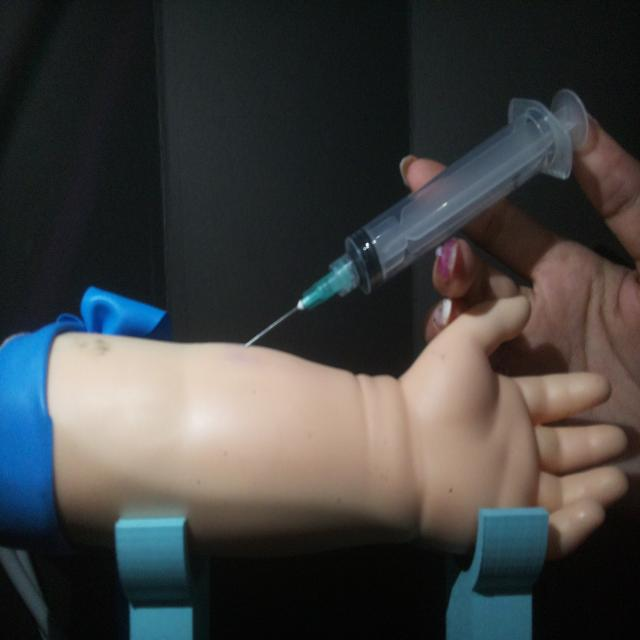30deg: (239, 83, 592, 351)
